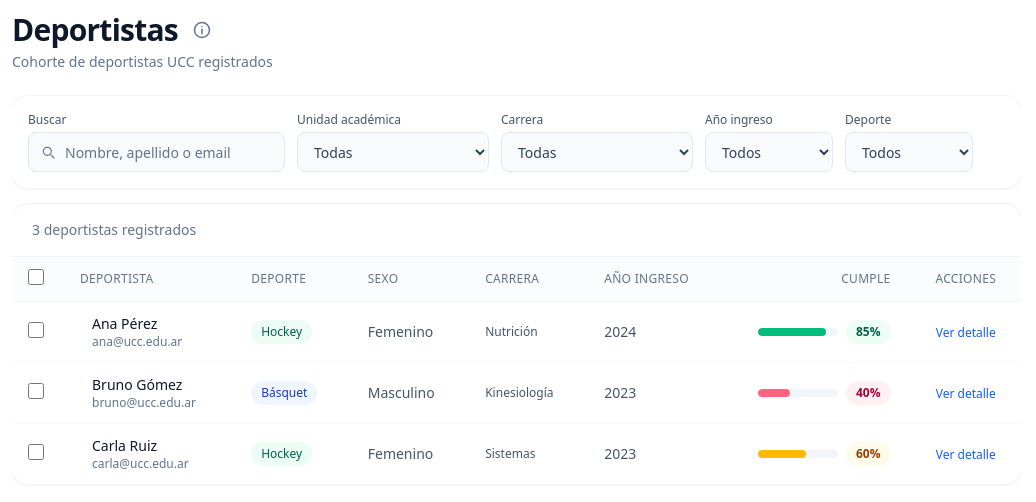
Test: Deportistas › la búsqueda filtra al instante (en memoria, sin esperar)
Step 1. Type "car" into the search field labelled "Buscar" → (156, 152), box [28,132,285,172]
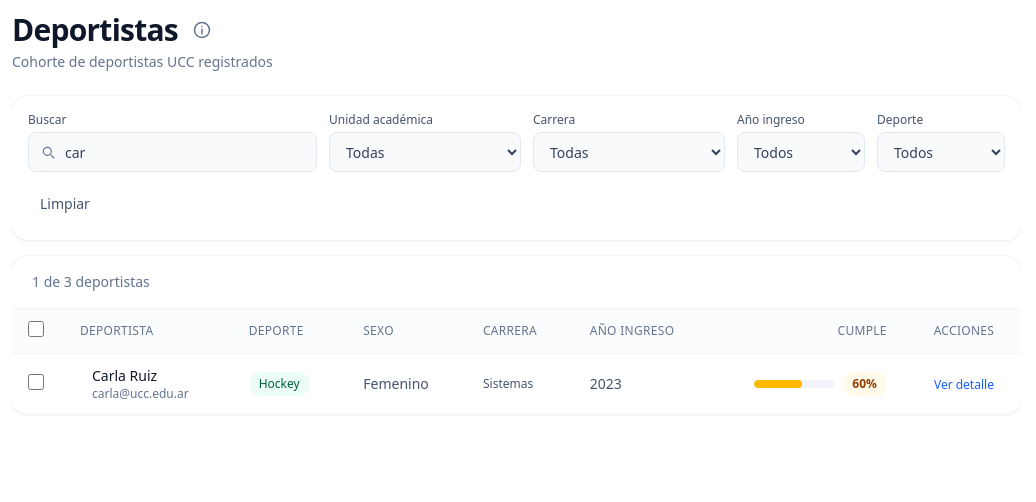
Check: the text "Carla Ruiz" is shown, box [92,366,157,385]
Check: the text "Ana Pérez" is gone
